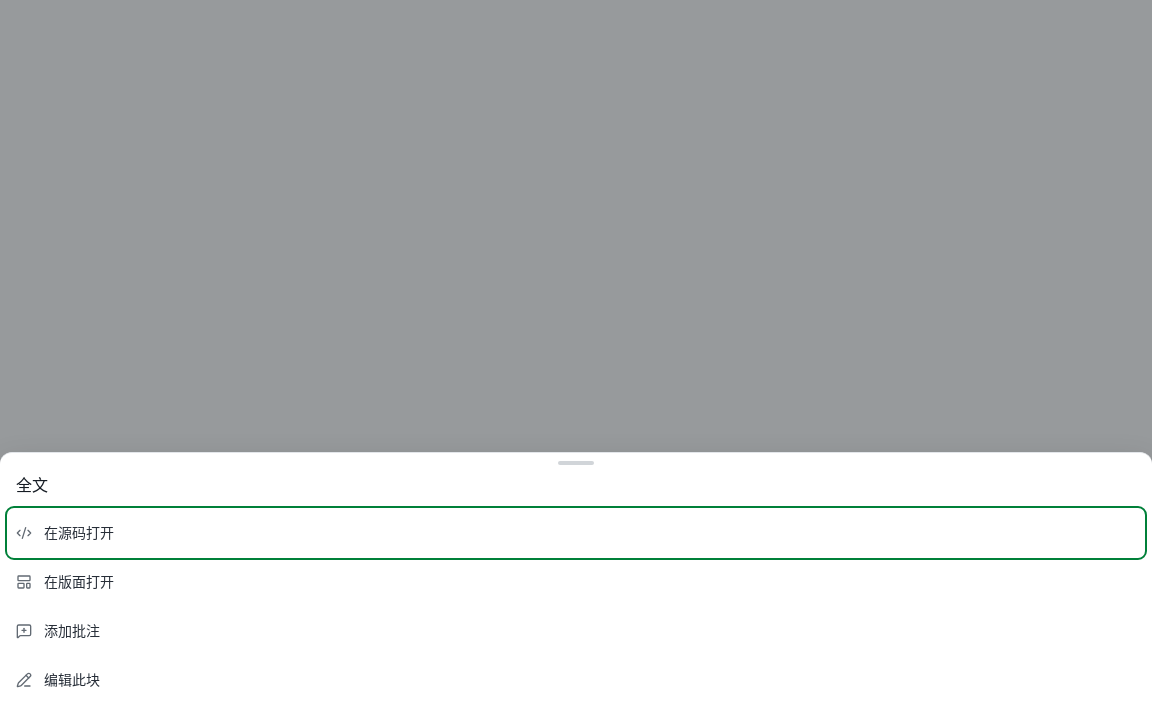
Test case: PdfLongPressSheet（store.ui.pdfLongPress 契约） › 「添加批注」切到批注表单（snap full，可滚）
Click the menu item with test id "plp-comment" at (72, 630), box [8, 607, 1144, 655]
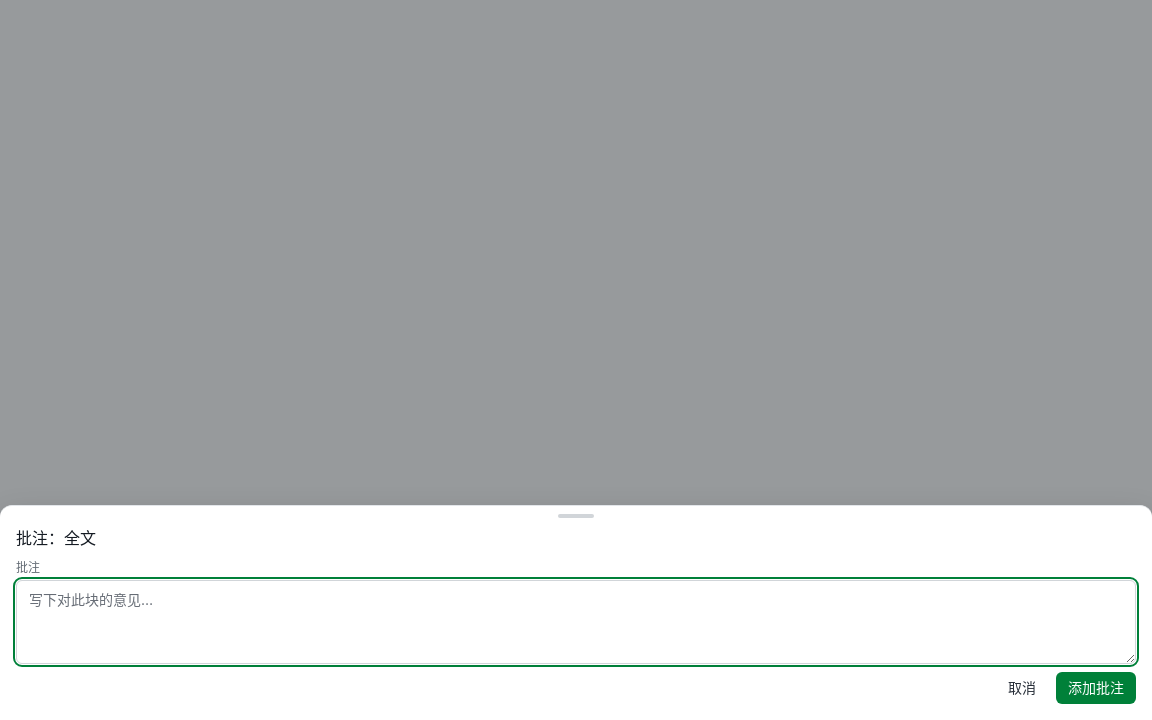
Check: the text box with test id "plp-comment-body" is shown, box [16, 580, 1136, 664]
